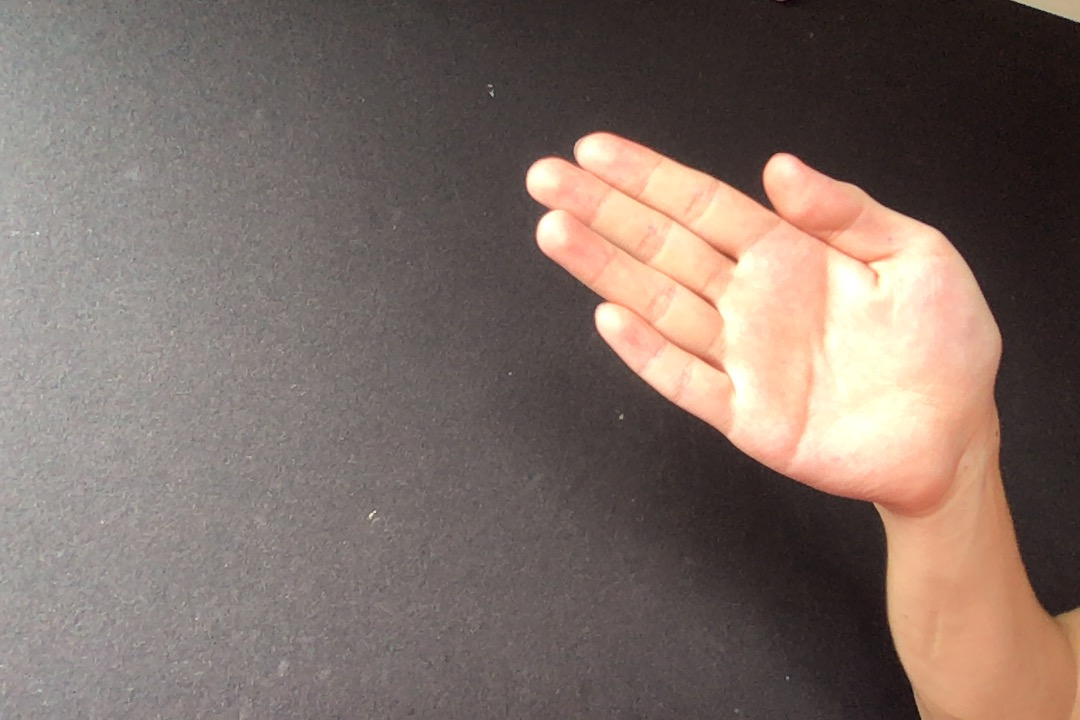palmhand: (519, 124, 1009, 514)
